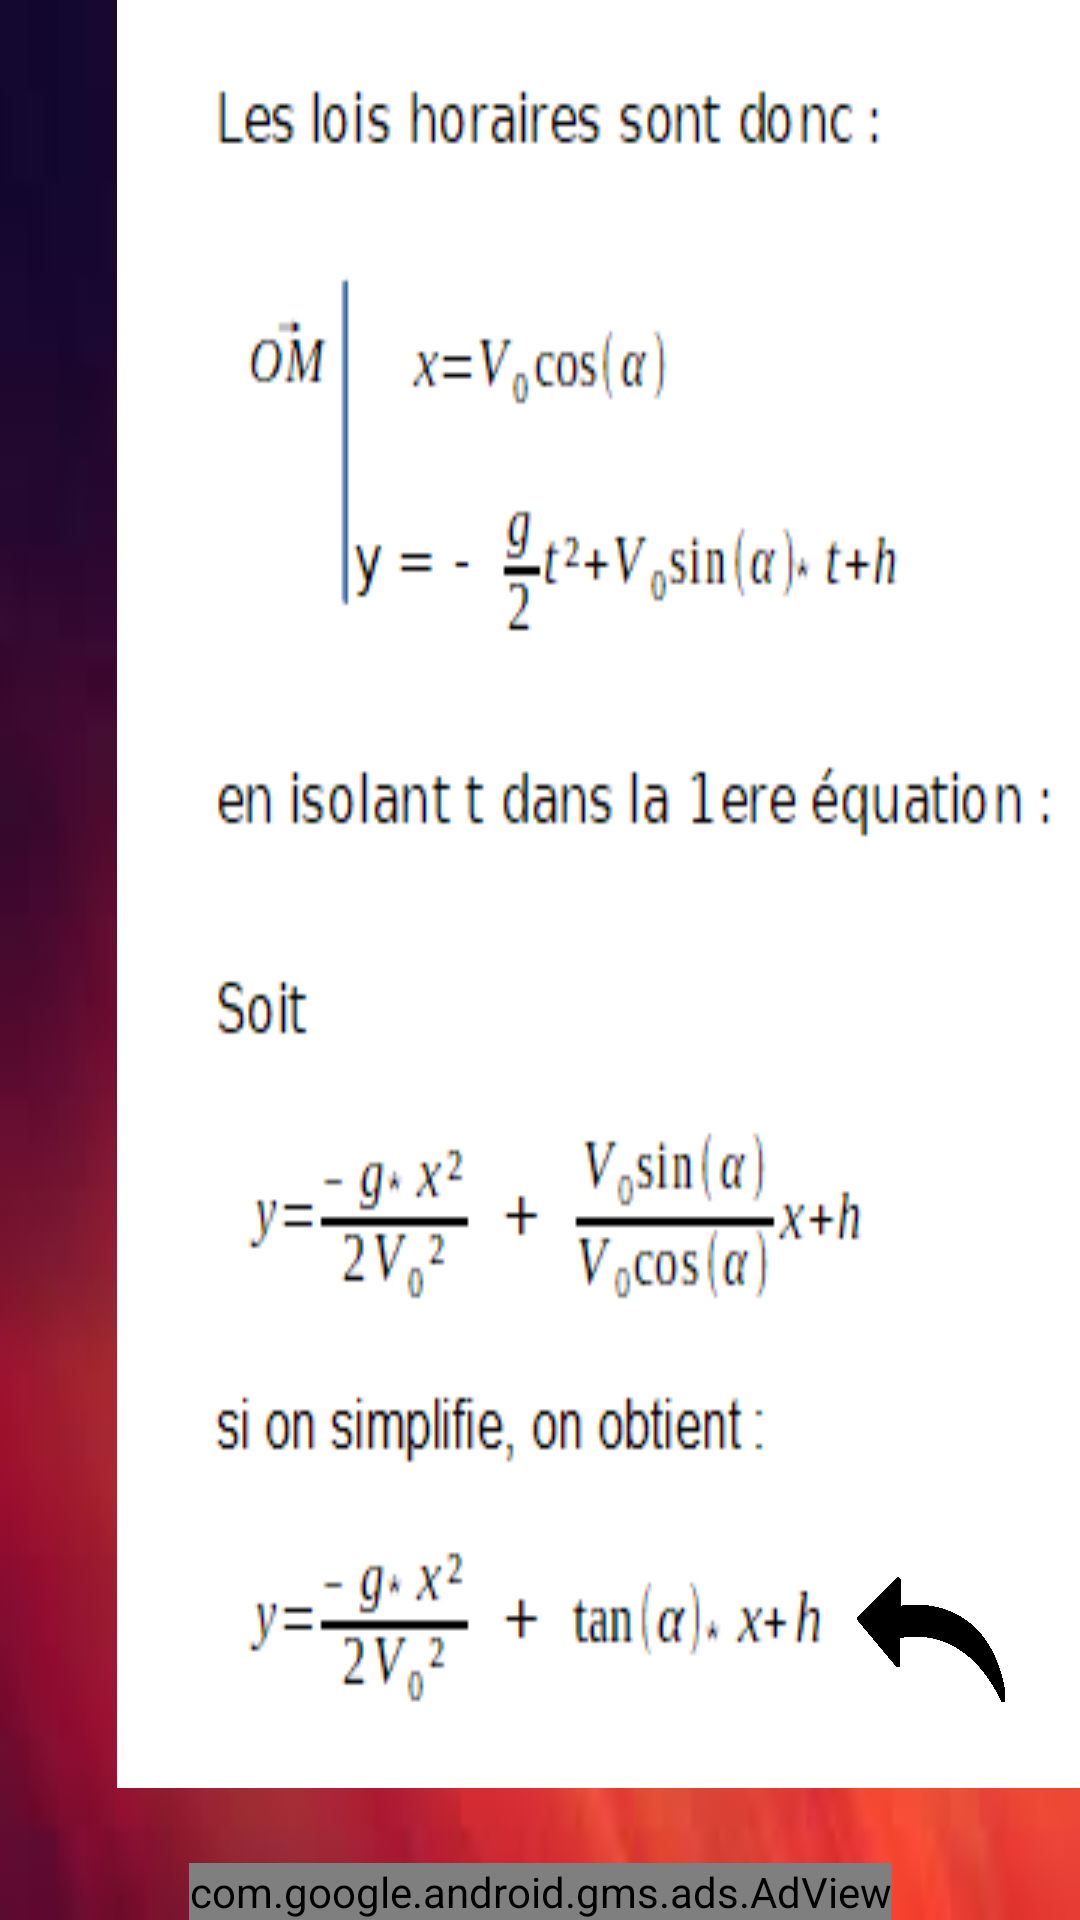

Screen size 1080*1920. Icon name, then its box in pixels as (x1,y1,x2,y2):
retour: (857,1577,1005,1702)
